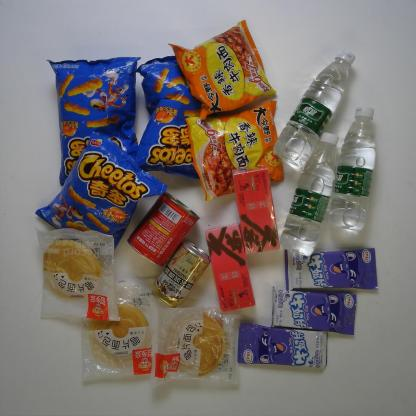Alcohol: (149, 239, 212, 309)
Candy: (280, 239, 380, 293), (234, 319, 330, 371), (269, 285, 360, 335)
Canned Food: (126, 189, 200, 268)
Dessert: (77, 274, 169, 384), (143, 288, 242, 384), (32, 223, 124, 325)
Drink: (273, 47, 356, 168), (278, 130, 339, 258), (326, 104, 378, 233)
Instant Drink: (203, 222, 258, 313), (230, 164, 281, 255)
Instant Noodles: (167, 17, 276, 121), (183, 98, 287, 203)
Puffed Food: (34, 125, 168, 266), (45, 51, 150, 189), (132, 52, 233, 183)
